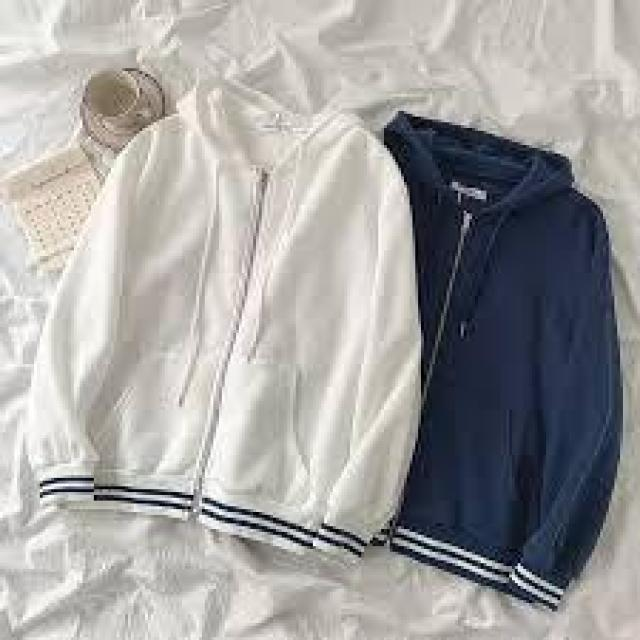sweater: (45, 114, 404, 549), (390, 119, 620, 589)
